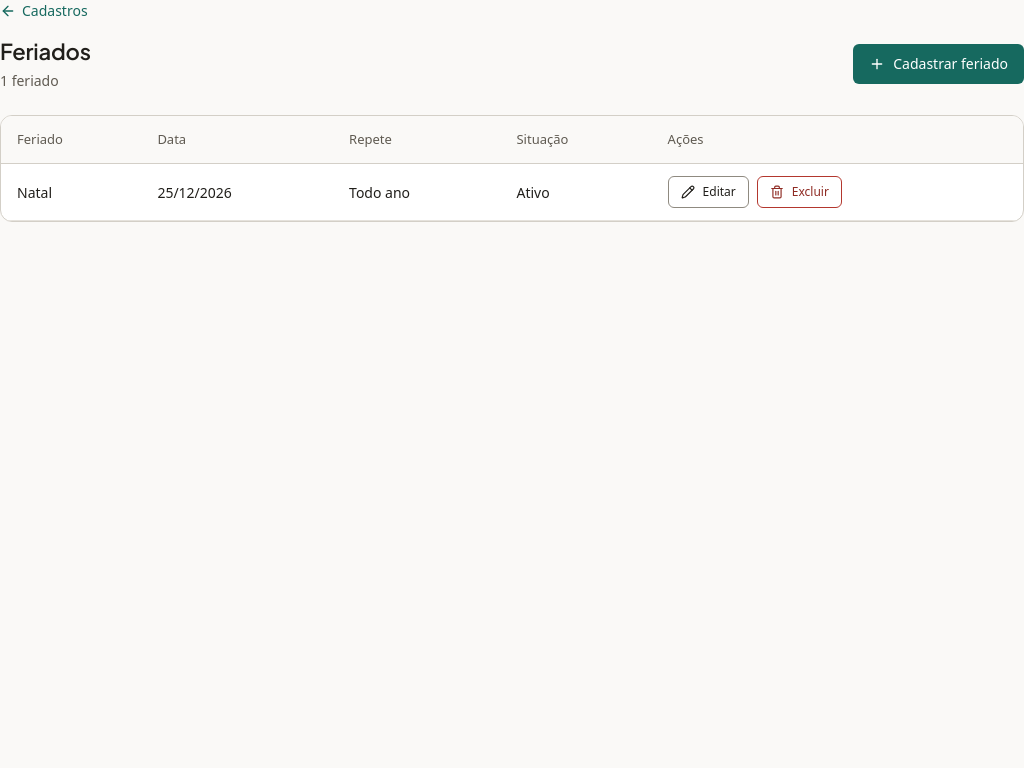
Test case: Feriados — exclusão › deve mostrar a recusa do servidor DENTRO do diálogo e manter o registro na lista
The image size is (1024, 768).
Expected: the text "Natal" is shown, x1=1 y1=164 x2=141 y2=221
Click the button "Excluir".
click(799, 192)  # box x1=757 y1=176 x2=842 y2=208
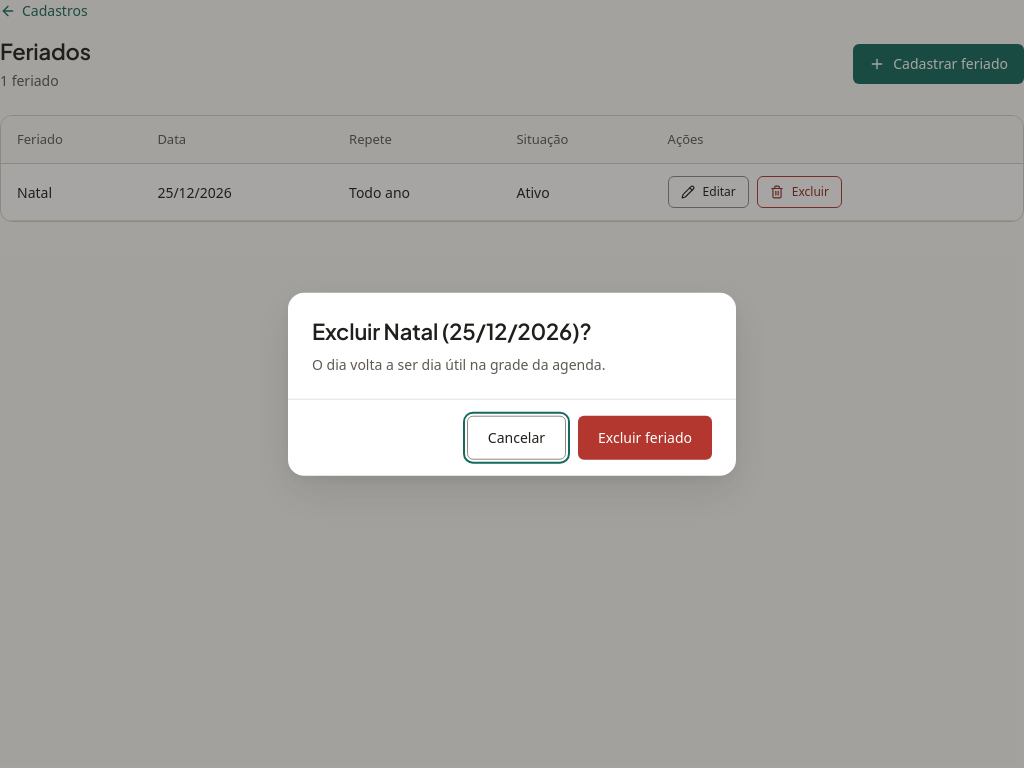
Click the button "Excluir feriado".
click(645, 437)  # box x1=578 y1=415 x2=712 y2=459
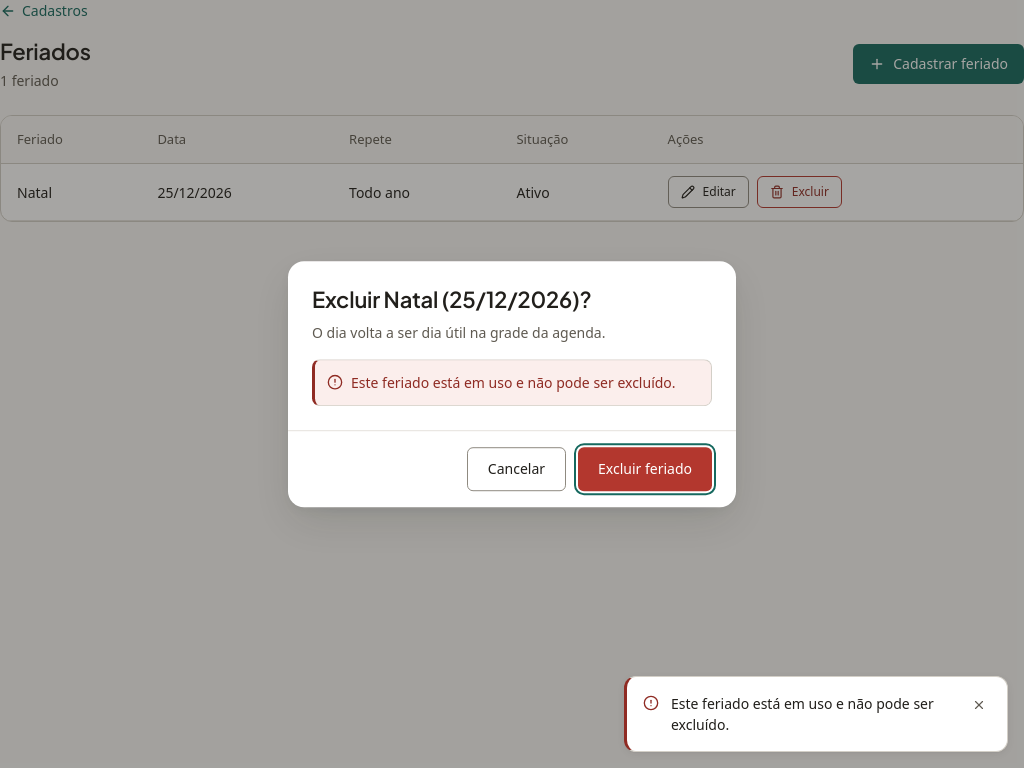
Expected: the text "Natal" is shown, x1=1 y1=164 x2=141 y2=221
Now the text "Este feriado está em uso e não pode ser excluído." below "Excluir Natal (25/12/2026)?" is shown, box x1=351 y1=373 x2=676 y2=392
